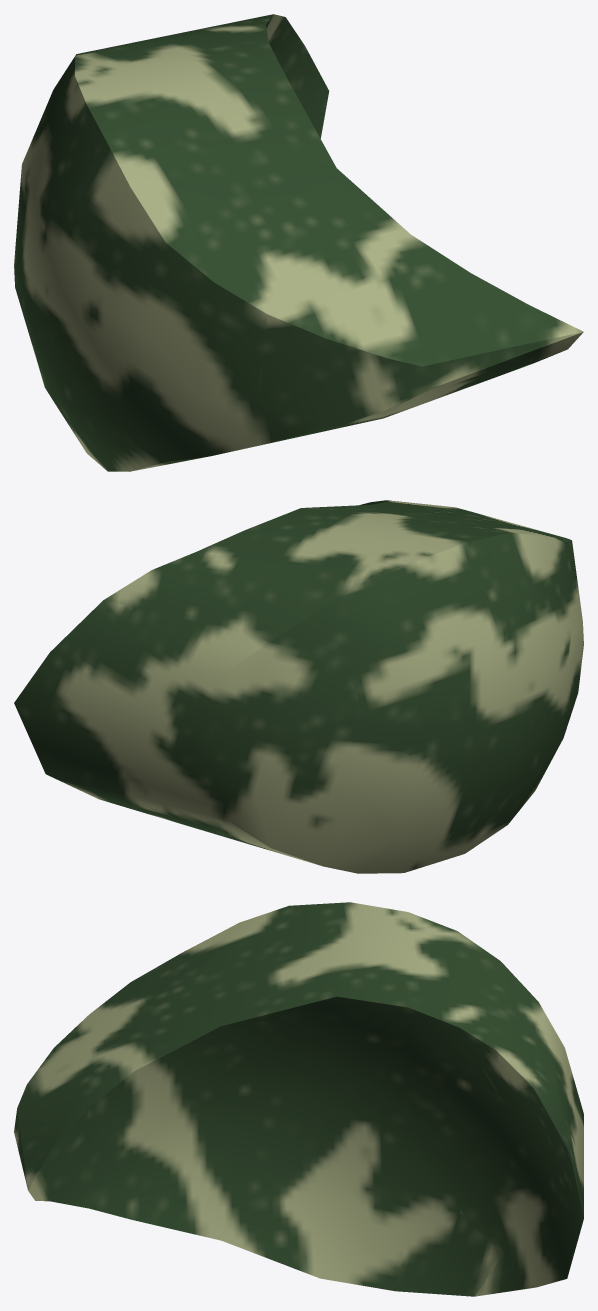
File: link_body_24.obj
3 renders of one model, top to bottom at view 1: azimuth 30°, elevation 25°; view 2: azimuth 150°, elevation 25°; view 3: azimuth 270°, elevation 25°, orthographic. The views are drawn at different scales.
Parts seen in each view (by area): view 1: link_body_24; view 2: link_body_24; view 3: link_body_24.
Boxes of the visible parts, x1,y1,x2,y2 form: link_body_24: [14, 14, 583, 471]; link_body_24: [14, 500, 583, 873]; link_body_24: [14, 902, 583, 1296].
Size of the model in its own units: 8.29 by 6.35 by 10.6.
